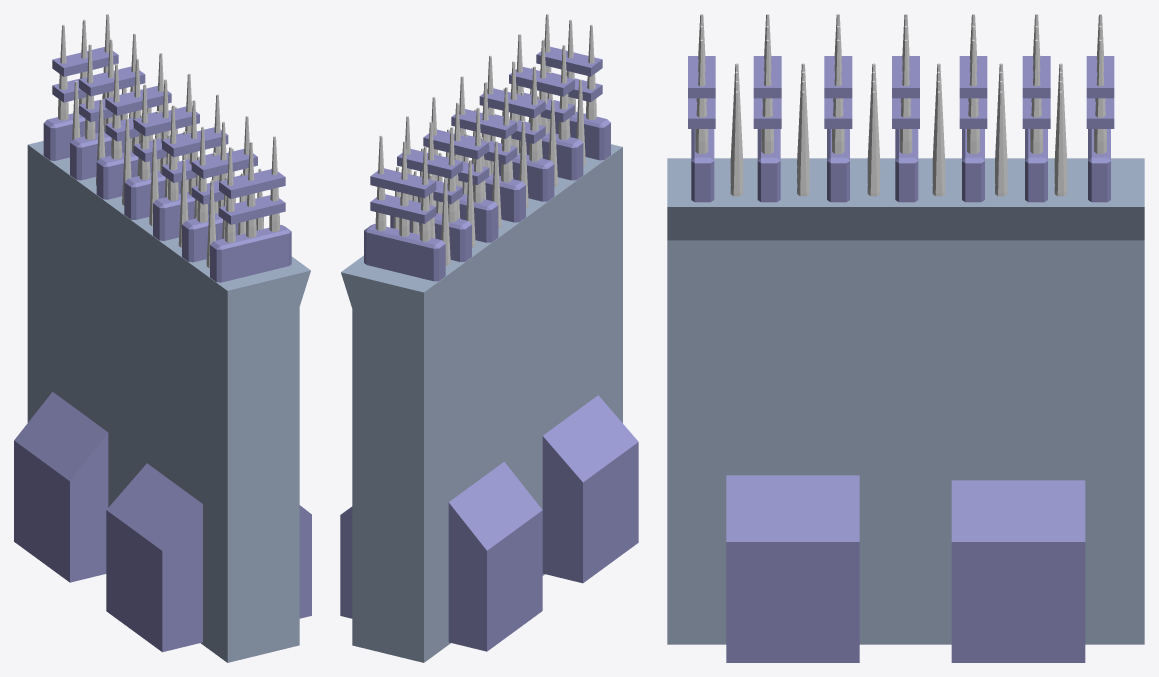
File: wall.fbx
The picture shows the model from 3 angles, left to right: view 1: azimuth 30°, elevation 25°; view 2: azimuth 150°, elevation 25°; view 3: azimuth 270°, elevation 25°; orthographic projection. The views are drawn at different scales.
Visible parts, largest first — view 1: Cube, Cube.024, Cube.025, Cube.001, Cube.022, Cube.007, Cube.006, Cube.005, Cube.003, Cube.004, Cube.002, Cube.020 (+25 smaller); view 2: Cube, Cube.024, Cube.025, Cube.007, Cube.023, Cube.003, Cube.002, Cube.001, Cube.004, Cube.006, Cube.005, Cube.015 (+26 smaller); view 3: Cube, Cube.022, Cube.023, Cube.001, Cube.002, Cube.004, Cube.006, Cube.003, Cube.005, Cube.007, Cube.016, Cube.019 (+25 smaller).
Part boxes in pixels (left/top/right/bottom): Cube: left=27, top=141, right=310, bottom=662; Cube.024: left=106, top=463, right=202, bottom=652; Cube.025: left=14, top=392, right=108, bottom=582; Cube.001: left=210, top=225, right=291, bottom=282; Cube.022: left=299, top=505, right=311, bottom=618; Cube.007: left=43, top=113, right=120, bottom=160; Cube.006: left=70, top=131, right=124, bottom=180; Cube.005: left=96, top=150, right=151, bottom=199; Cube.003: left=153, top=192, right=218, bottom=240; Cube.004: left=124, top=171, right=188, bottom=219; Cube.002: left=182, top=213, right=263, bottom=262; Cube.020: left=219, top=169, right=285, bottom=198; Cube: left=341, top=144, right=622, bottom=662; Cube.024: left=542, top=395, right=638, bottom=583; Cube.025: left=448, top=461, right=542, bottom=651; Cube.007: left=364, top=224, right=445, bottom=281; Cube.023: left=340, top=506, right=352, bottom=618; Cube.003: left=498, top=153, right=554, bottom=201; Cube.002: left=526, top=132, right=583, bottom=180; Cube.001: left=555, top=111, right=610, bottom=160; Cube.004: left=444, top=174, right=525, bottom=222; Cube.006: left=390, top=213, right=471, bottom=261; Cube.005: left=418, top=194, right=498, bottom=242; Cube.015: left=370, top=168, right=436, bottom=198; Cube: left=667, top=158, right=1144, bottom=644; Cube.022: left=726, top=475, right=859, bottom=662; Cube.023: left=951, top=480, right=1085, bottom=662; Cube.001: left=691, top=129, right=714, bottom=202; Cube.002: left=757, top=129, right=780, bottom=202; Cube.004: left=895, top=129, right=918, bottom=202; Cube.006: left=1025, top=129, right=1047, bottom=202; Cube.003: left=827, top=129, right=849, bottom=202; Cube.005: left=962, top=129, right=984, bottom=202; Cube.007: left=1088, top=129, right=1110, bottom=202; Cube.016: left=824, top=56, right=852, bottom=98; Cube.019: left=753, top=56, right=781, bottom=98.
Size of the model in its own units: 86.44 by 277 by 200.
